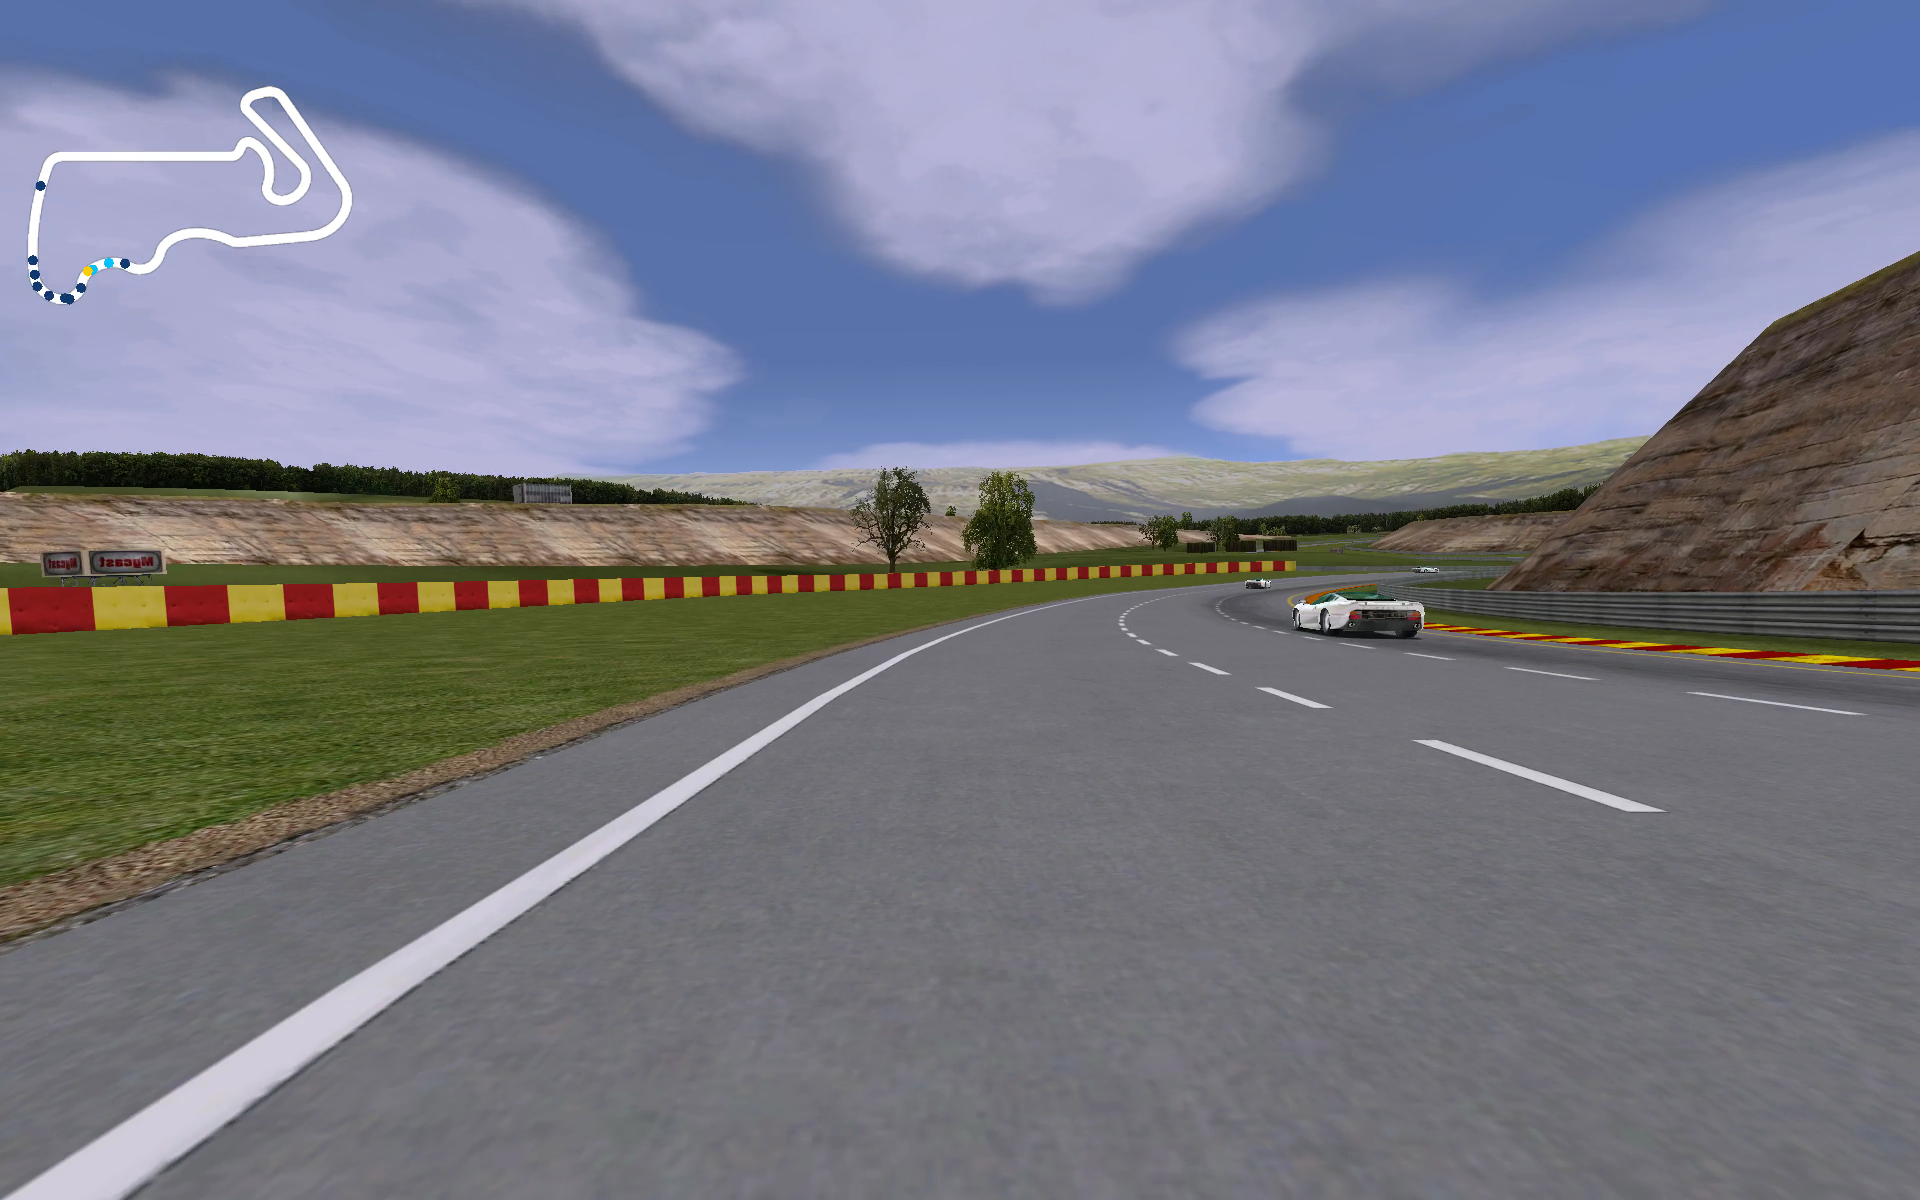car: (1290, 583, 1428, 637)
